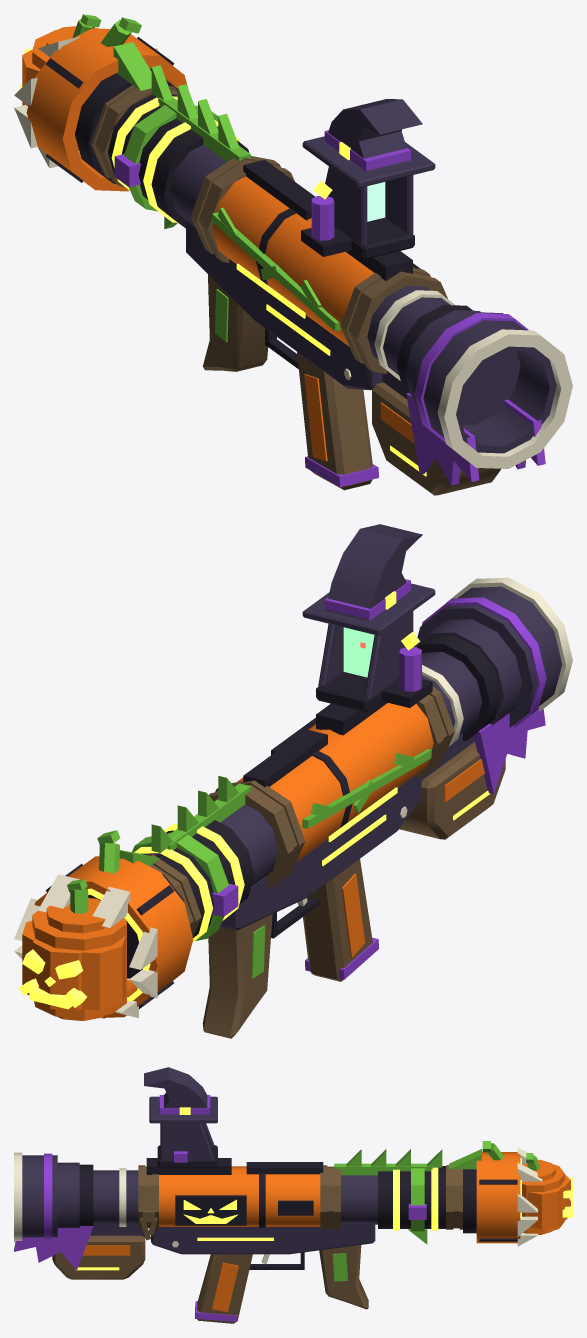
File: Calabazooka.glb
3 views of the same model, one above another, from view 1: azimuth 30°, elevation 25°; view 2: azimuth 150°, elevation 25°; view 3: azimuth 270°, elevation 25° (orthographic). The views are drawn at different scales.
Parts seen in each view (by area): view 1: Sleeve, Bell, ExhaustBell, Housing, ExhaustLip, Grip, MainTube, ExhaustThroat, HatCone, ShoulderPad, CoreHousing, Foregrip (+31 smaller); view 2: Sleeve, Housing, Bell, ExhaustBell, Foregrip, HatCone, MainTube, Grip, ShoulderPad, ExhaustThroat, PumpkinLobe2, PumpkinShoulder (+34 smaller); view 3: Sleeve, Housing, MainTube, Bell, ShoulderPad, CoreHousing, ExhaustBell, Grip, Foregrip, HatCone, FacePlate, OpticWall1 (+33 smaller).
Boxes of the visible parts, box(x1,y1,x2,y2) form: Sleeve: box(212, 176, 374, 346); Bell: box(26, 28, 188, 191); ExhaustBell: box(412, 312, 556, 453); Housing: box(186, 220, 382, 390); ExhaustLip: box(437, 329, 572, 468); Grip: box(297, 352, 372, 490); MainTube: box(170, 145, 450, 375); ExhaustThroat: box(405, 310, 520, 424); HatCone: box(328, 99, 422, 171); ShoulderPad: box(372, 382, 501, 495); CoreHousing: box(108, 94, 249, 228); Foregrip: box(203, 274, 267, 371); Sleeve: box(237, 703, 433, 861); Housing: box(220, 774, 421, 930); Bell: box(34, 856, 193, 1017); ExhaustBell: box(417, 586, 562, 727); Foregrip: box(202, 914, 272, 1038); HatCone: box(325, 524, 422, 621); MainTube: box(220, 652, 482, 886); Grip: box(303, 859, 372, 981); ShoulderPad: box(399, 742, 505, 839); ExhaustThroat: box(414, 619, 522, 725); PumpkinLobe2: box(73, 936, 125, 1010); PumpkinShoulder: box(32, 910, 126, 1018); Sleeve: box(159, 1166, 320, 1226); Housing: box(151, 1222, 375, 1254); MainTube: box(93, 1170, 377, 1224); Bell: box(476, 1152, 520, 1243); ShoulderPad: box(52, 1235, 145, 1279); CoreHousing: box(378, 1166, 445, 1228); ExhaustBell: box(22, 1155, 57, 1237); Grip: box(197, 1254, 252, 1323); Foregrip: box(319, 1245, 368, 1309); HatCone: box(144, 1067, 210, 1114); FacePlate: box(175, 1195, 246, 1225); OpticWall1: box(160, 1123, 214, 1160).
Size of the model in its own units: 0.67 by 1.99 by 4.08.
